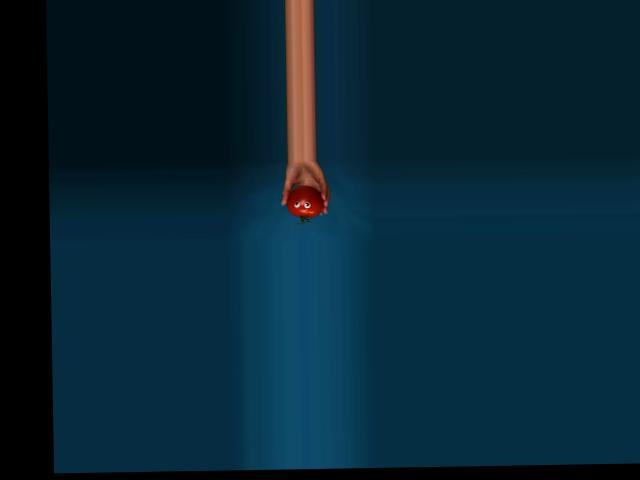tomato: (285, 184, 324, 217)
